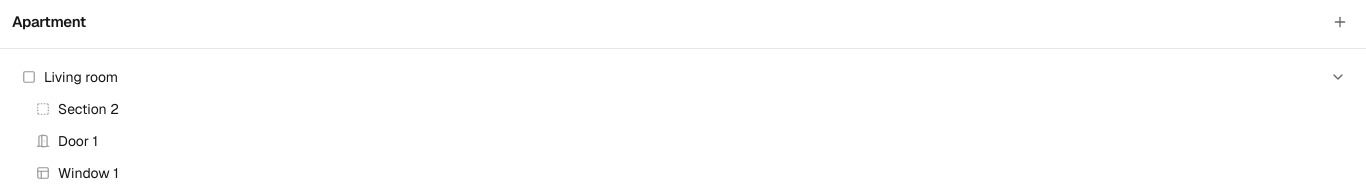
ApartmentLayers room names › renames an opening and a section in their rows
Double-click the button "Door 1" at (78, 141), box [12, 125, 1350, 157]
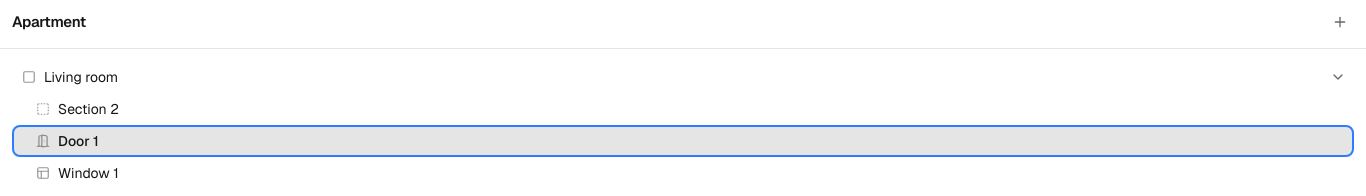
Replace the text in the field named "Rename Door 1" with "Front door" at (699, 141), box [58, 131, 1340, 151]
Then press Enter
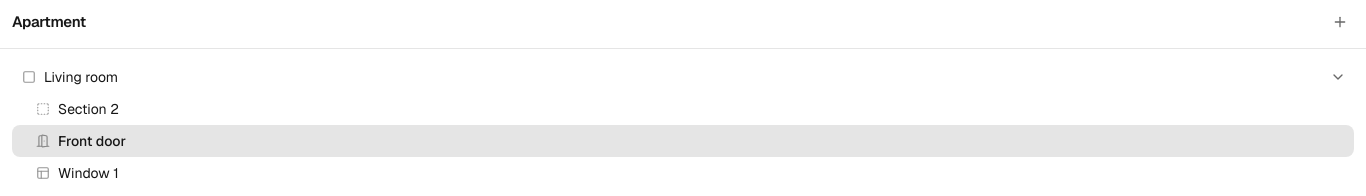
Expected: the button "Front door" is shown, [12, 125, 1350, 157]
Double-click the button "Section 2" at (88, 109), box [12, 93, 1350, 125]
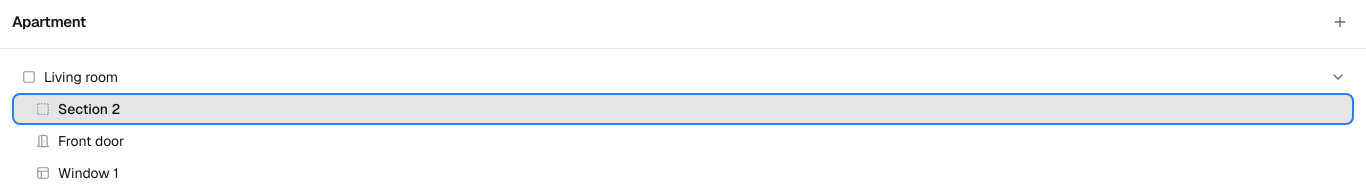
Replace the text in the field named "Rename Section 2" with "Closet" at (699, 109), box [58, 99, 1340, 119]
Then press Enter
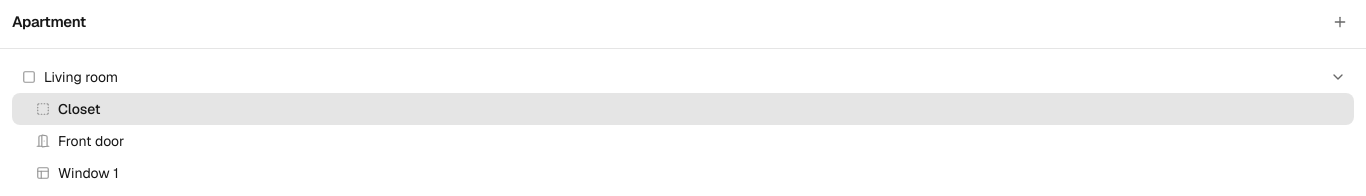
Expected: the button "Closet" is shown, [12, 93, 1350, 125]
Expected: the field is gone
